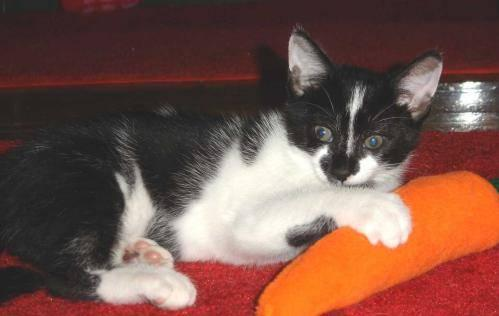cat: (0, 26, 442, 308)
